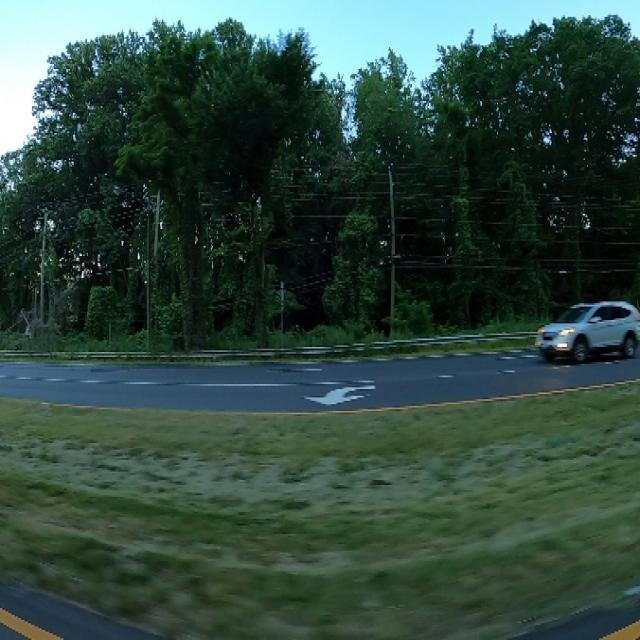car: (527, 285, 640, 374)
